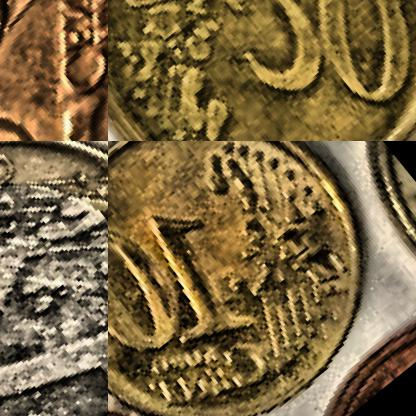coin: (108, 141, 415, 415), (108, 0, 415, 140), (0, 141, 107, 415), (0, 0, 107, 140)
